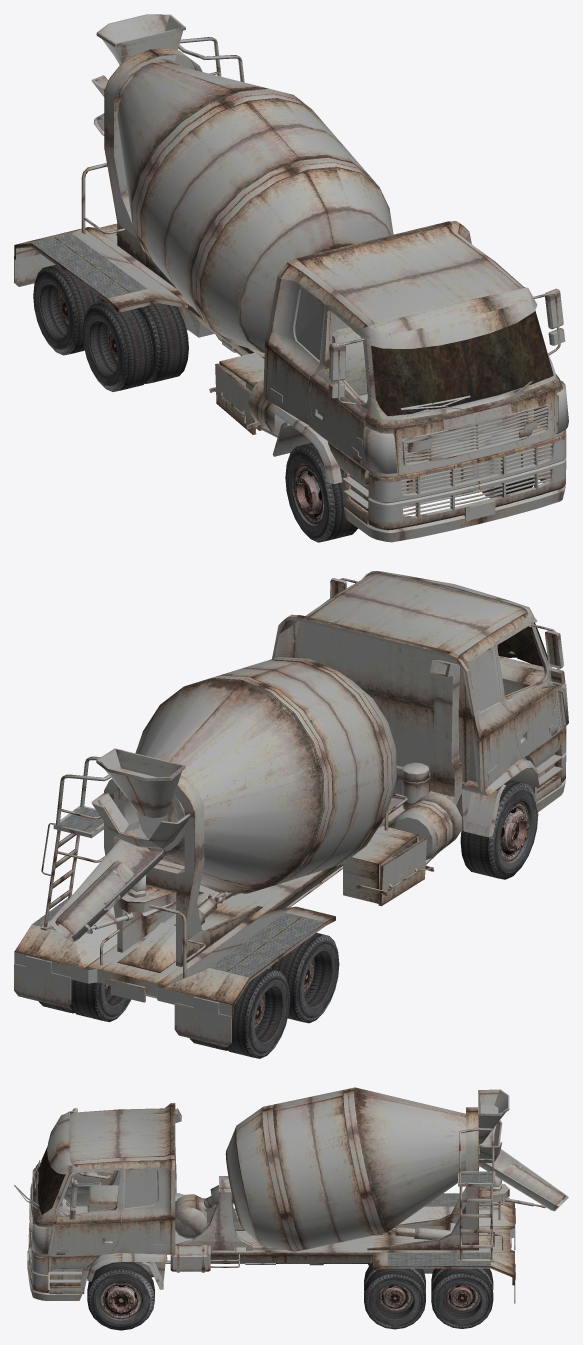
Rendered from volvo-truck.glb.
3 views of the same model, one above another, from view 1: azimuth 30°, elevation 25°; view 2: azimuth 150°, elevation 25°; view 3: azimuth 270°, elevation 25° (orthographic). The views are drawn at different scales.
Visible parts, largest first — view 1: Car_Body, RB_Wheel, RF_Wheel, RB_Wheel1; view 2: Car_Body, RF_Wheel, RB_Wheel1, RB_Wheel, LB_Wheel1; view 3: Car_Body, LF_Wheel, LB_Wheel, LB_Wheel1.
Boxes of the visible parts, x1,y1,x2,y2 form: Car_Body: (14, 14, 568, 542); RB_Wheel: (82, 301, 188, 391); RF_Wheel: (285, 443, 357, 542); RB_Wheel1: (33, 265, 104, 355); Car_Body: (14, 571, 568, 1046); RF_Wheel: (460, 780, 538, 879); RB_Wheel1: (189, 968, 289, 1058); RB_Wheel: (268, 932, 339, 1023); LB_Wheel1: (39, 979, 131, 1022); Car_Body: (14, 1087, 568, 1303); LF_Wheel: (87, 1262, 154, 1330); LB_Wheel: (364, 1262, 425, 1329); LB_Wheel1: (431, 1268, 493, 1328).
Size of the model in its own units: 3.49 by 4.23 by 10.49.
4 materials, 4 textured.
